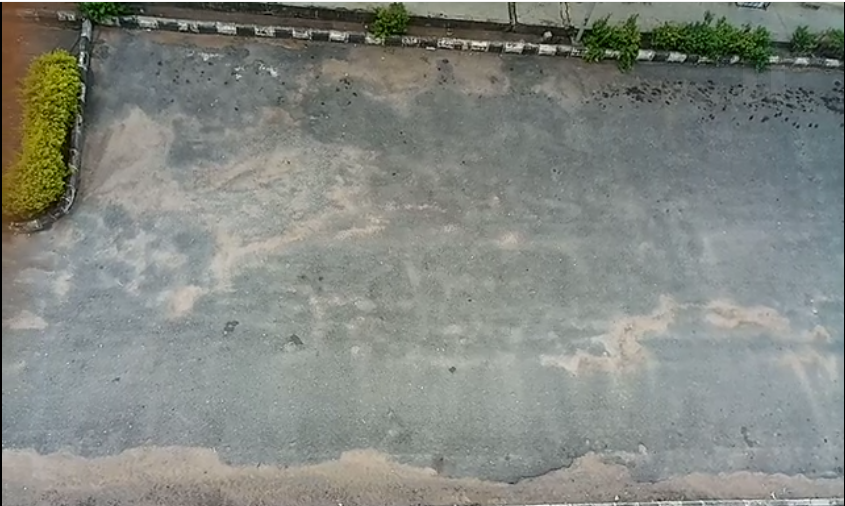four: (643, 21, 781, 258)
one: (49, 8, 223, 235)
three: (459, 24, 588, 248)
two: (286, 12, 418, 243)
